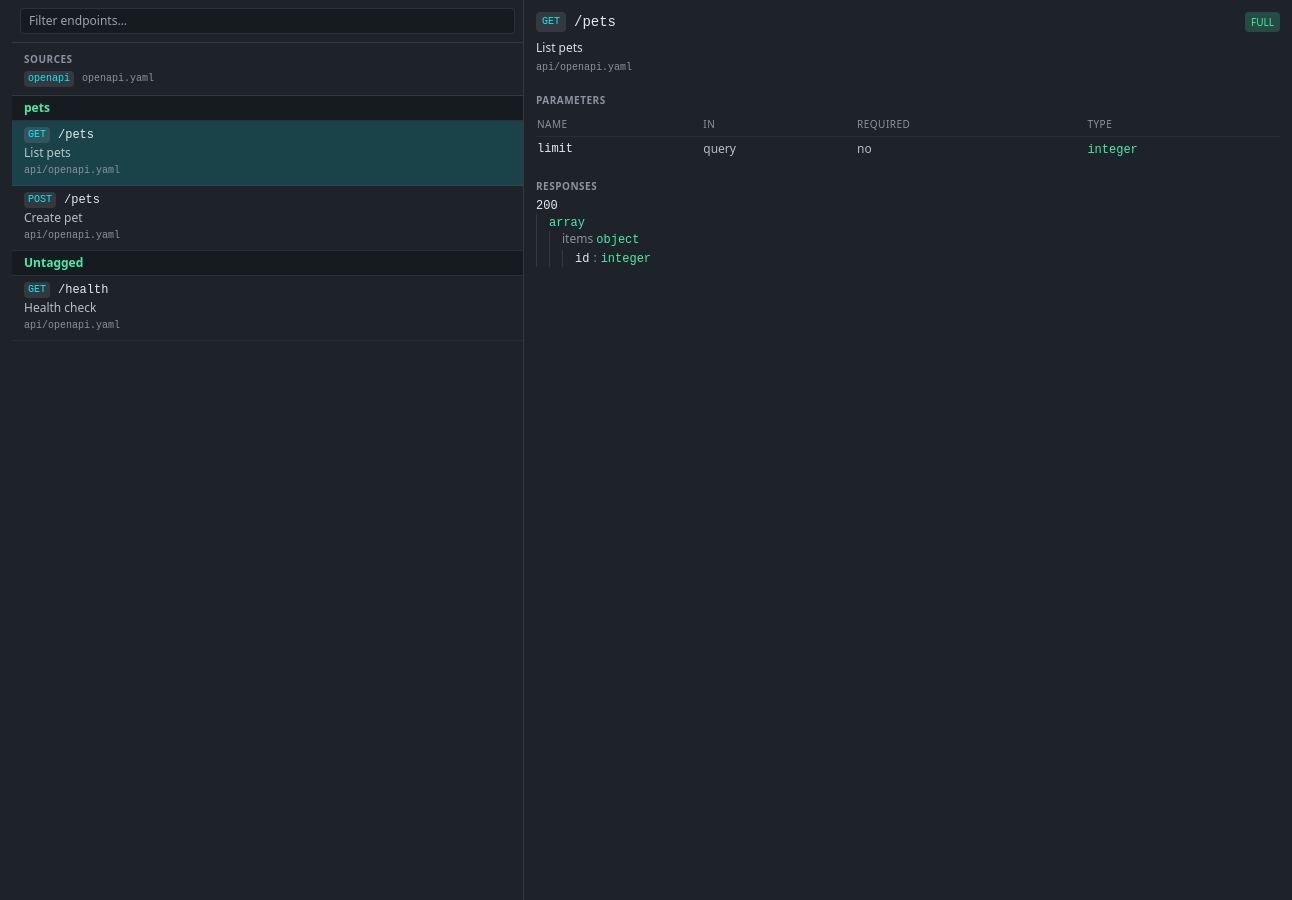
Test case: EndpointsView › renders the request-body schema as a tree with properties and required markers
Click the text "Create pet": point(53, 218) [24, 209, 82, 226]
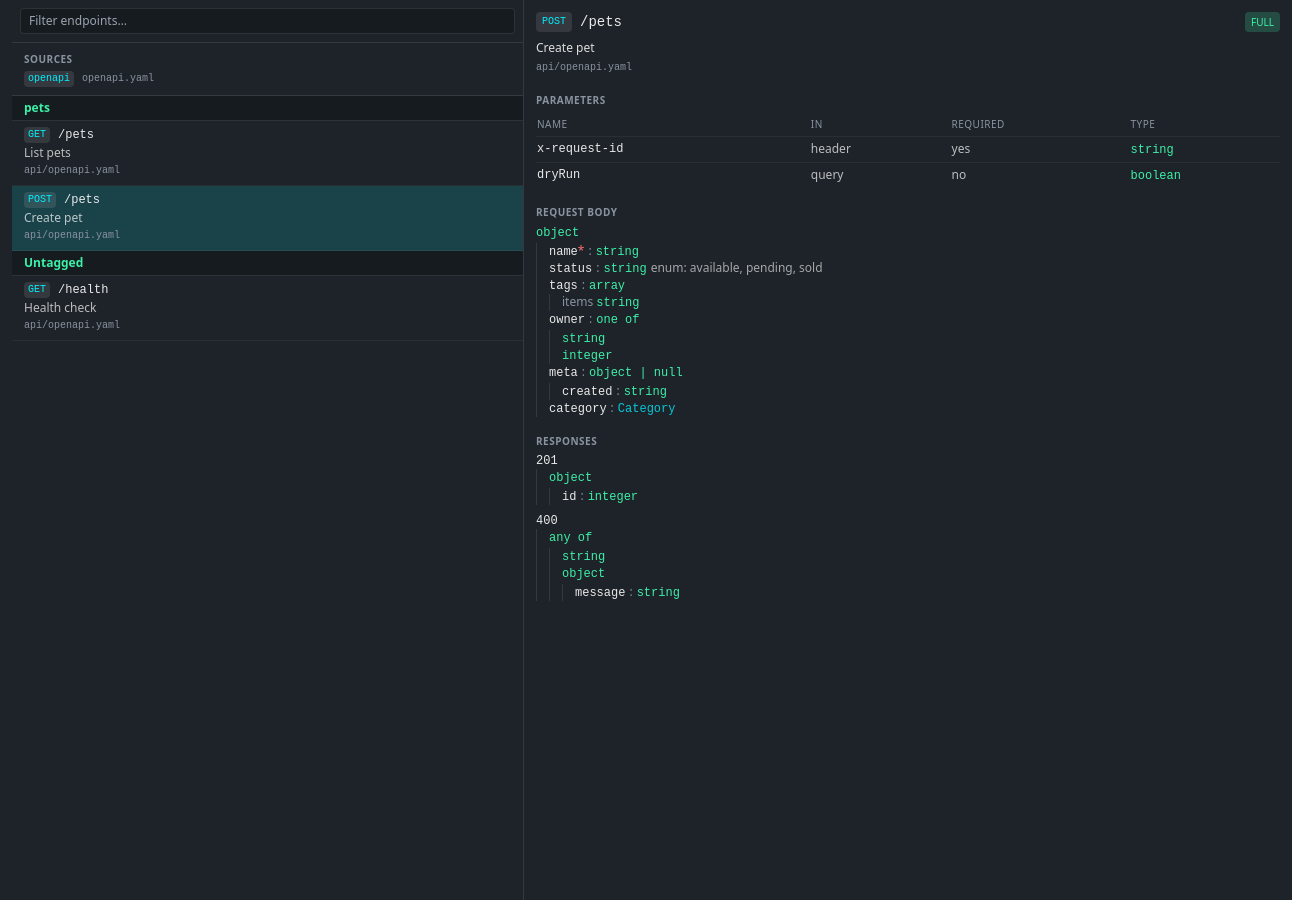
Result: the list item "name*:string" is shown at [549, 242, 639, 259]
Result: the text "status" is shown at [549, 262, 592, 276]
Result: the text "tags" is shown at [549, 279, 578, 293]
